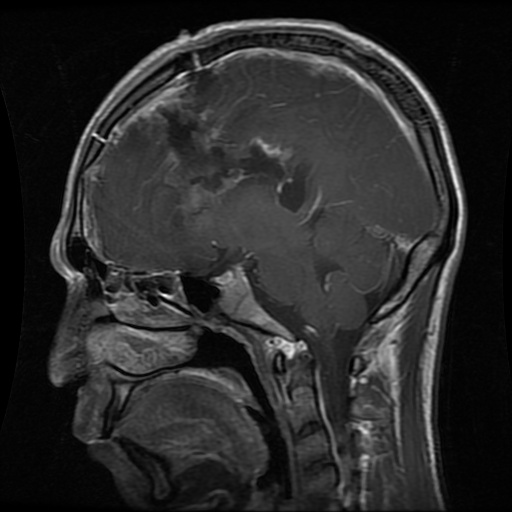glioma: (158, 70, 313, 229)
